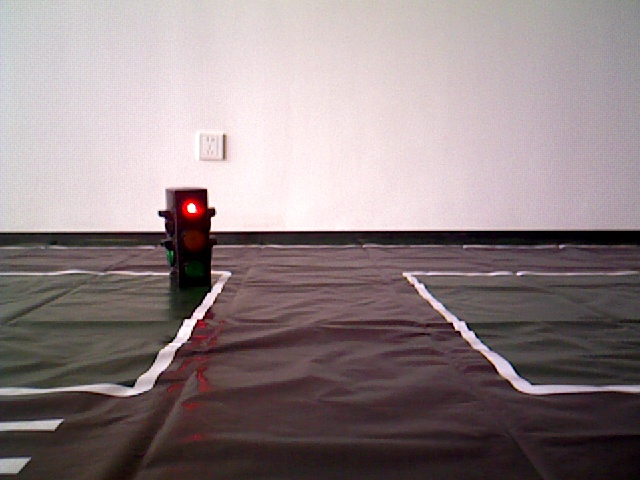red: (162, 194, 209, 289)
